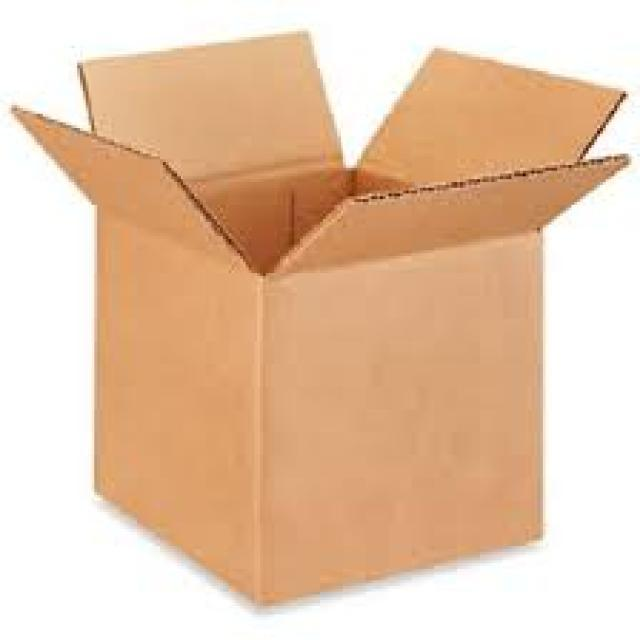Cardboard: (10, 32, 637, 603)
